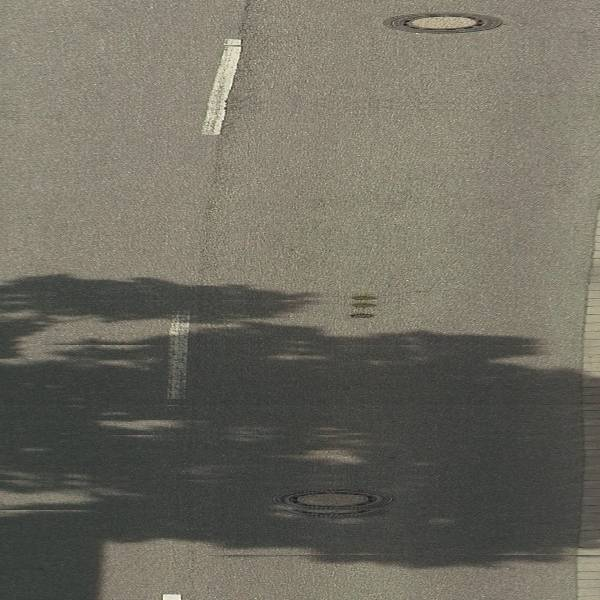road_damage: (347, 291, 381, 321)
